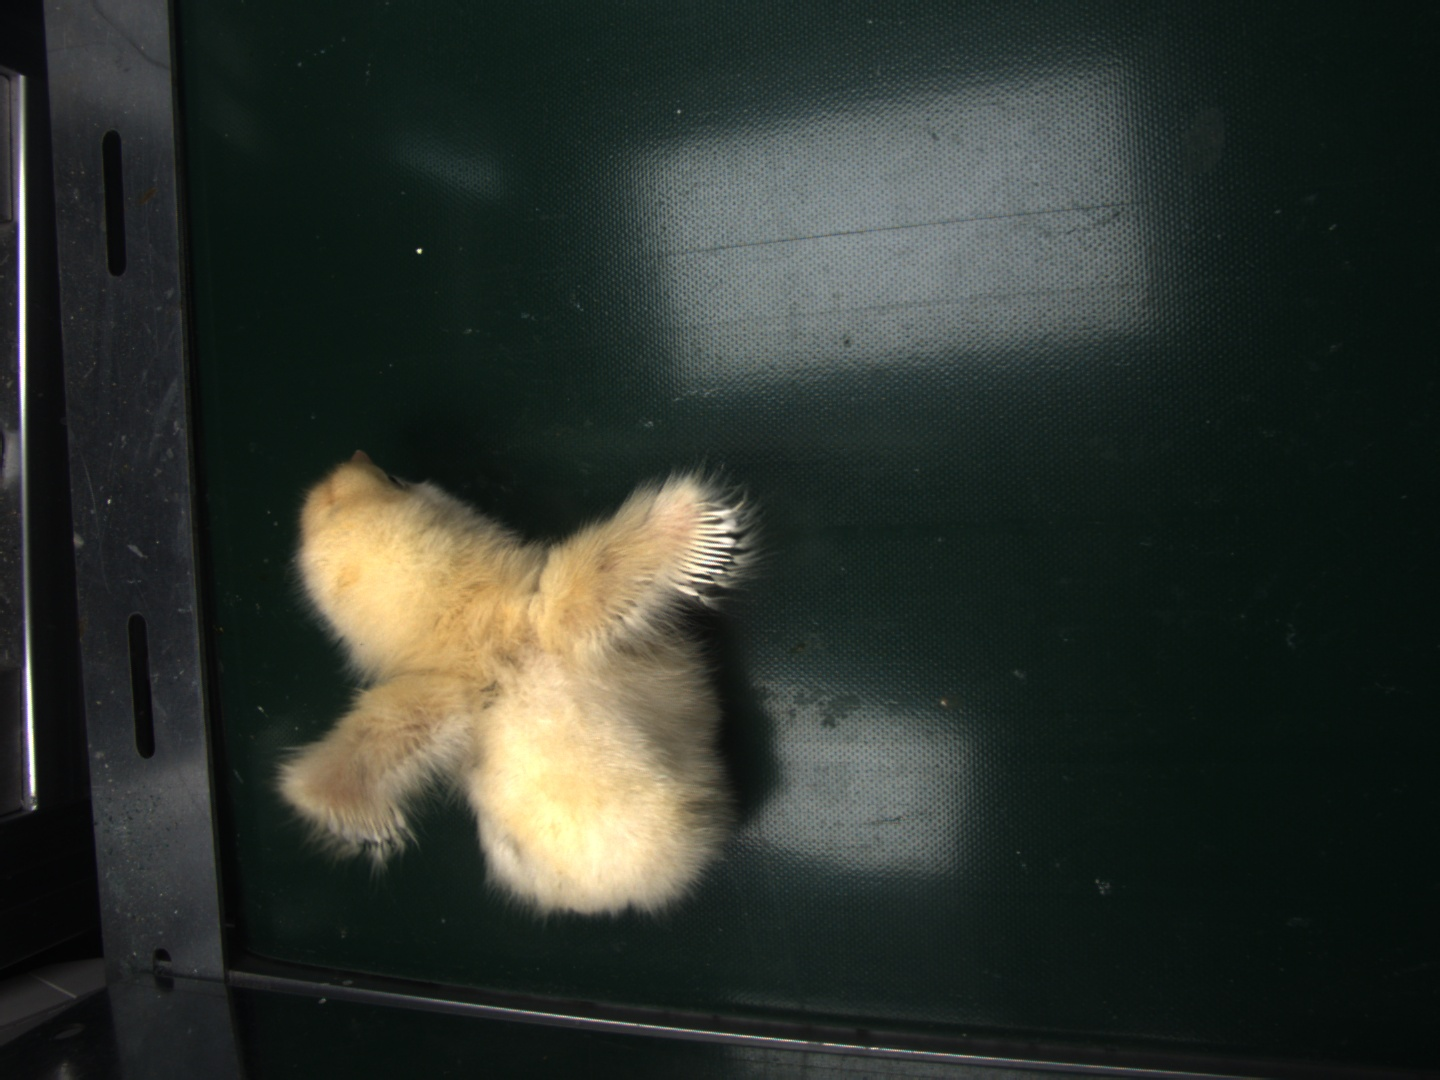male: (678, 506, 732, 592)
